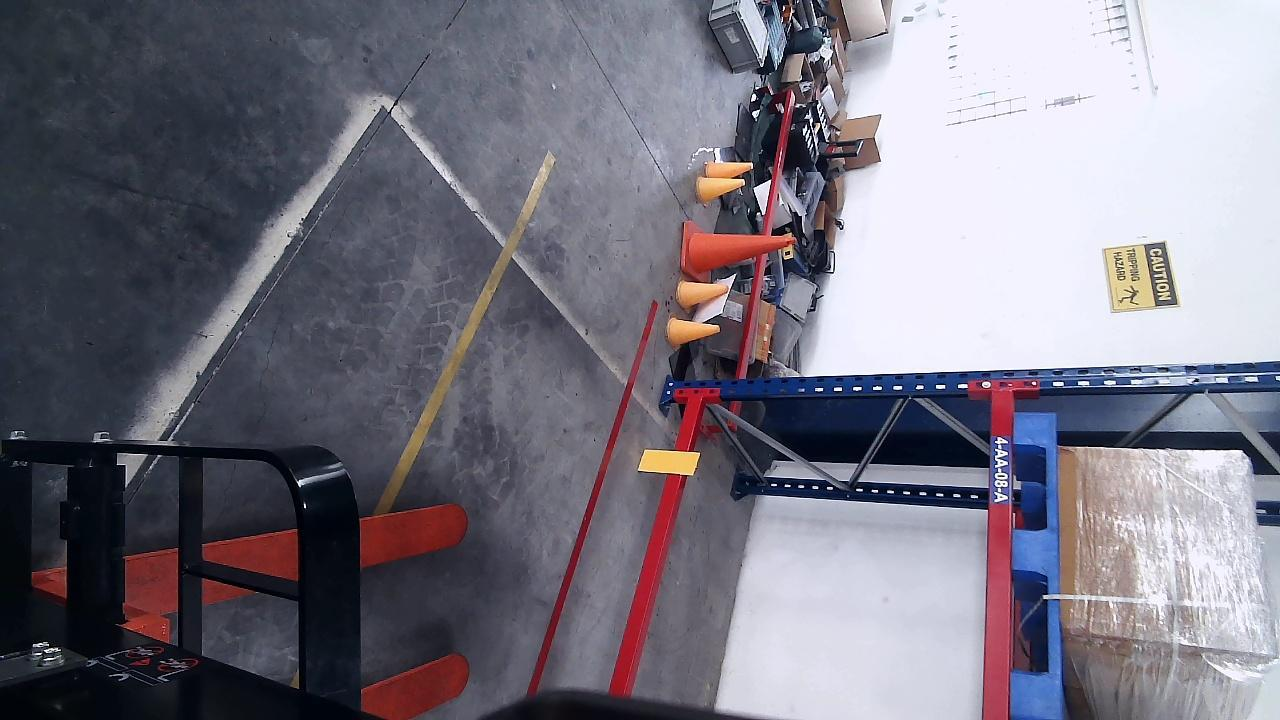h_rack: (608, 398, 704, 692), (982, 391, 1013, 720)
orange_strip: (638, 447, 700, 478)
red_line: (515, 294, 665, 697)
small_pallet: (1011, 413, 1064, 720)
yellow_line: (372, 148, 560, 510)
